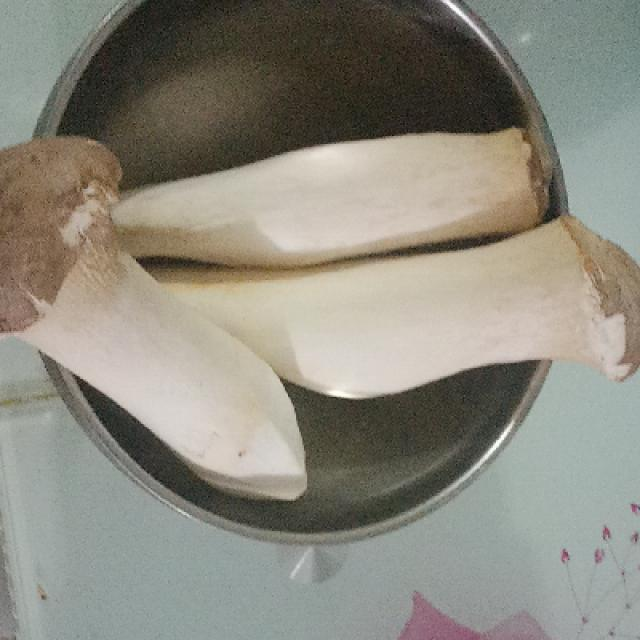Pleurotus eryngii: (0, 139, 306, 493)
